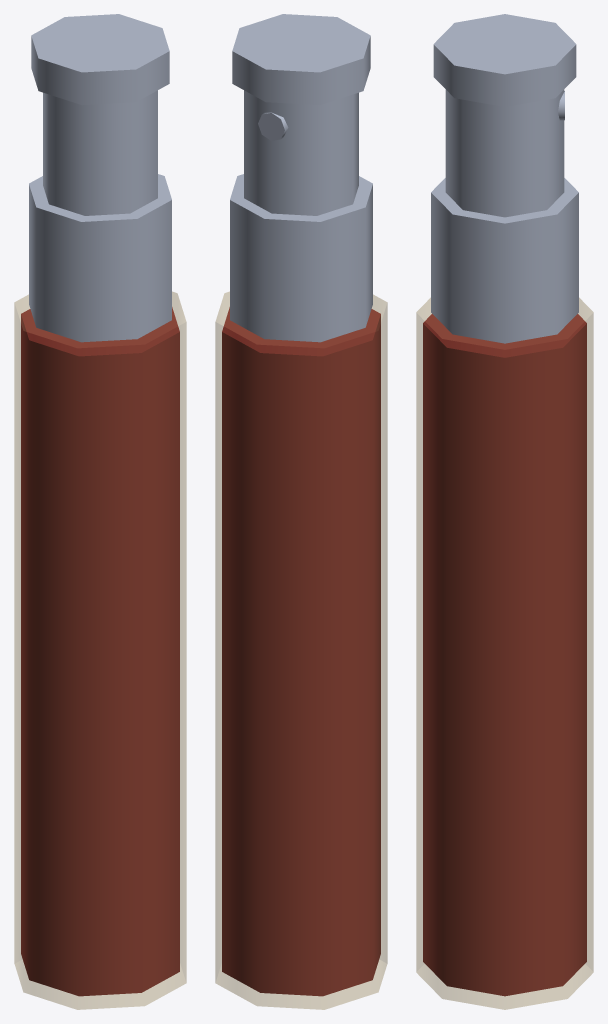
File: bottle_perfume.fbx
3 renders of one model, left to right at view 1: azimuth 30°, elevation 25°; view 2: azimuth 150°, elevation 25°; view 3: azimuth 270°, elevation 25°, orthographic.
Parts seen in each view (by area): view 1: bottle_perfume.001, bottle_perfume_top.001; view 2: bottle_perfume.001, bottle_perfume_top.001; view 3: bottle_perfume.001, bottle_perfume_top.001.
Part boxes in pixels (left/top/right/bottom): bottle_perfume.001: left=14, top=174, right=186, bottom=1009; bottle_perfume_top.001: left=31, top=14, right=169, bottom=215; bottle_perfume.001: left=215, top=174, right=387, bottom=1009; bottle_perfume_top.001: left=232, top=14, right=370, bottom=215; bottle_perfume.001: left=416, top=178, right=593, bottom=1009; bottle_perfume_top.001: left=433, top=14, right=576, bottom=217.
Bounding box in the file's own units: 408 × 2353 × 408.
2 materials, 2 textured.
